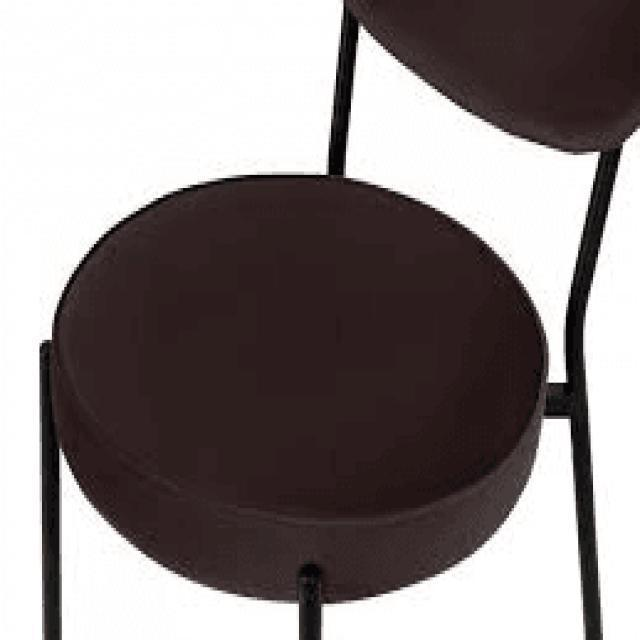chair: (30, 0, 640, 640), (28, 0, 640, 600)
